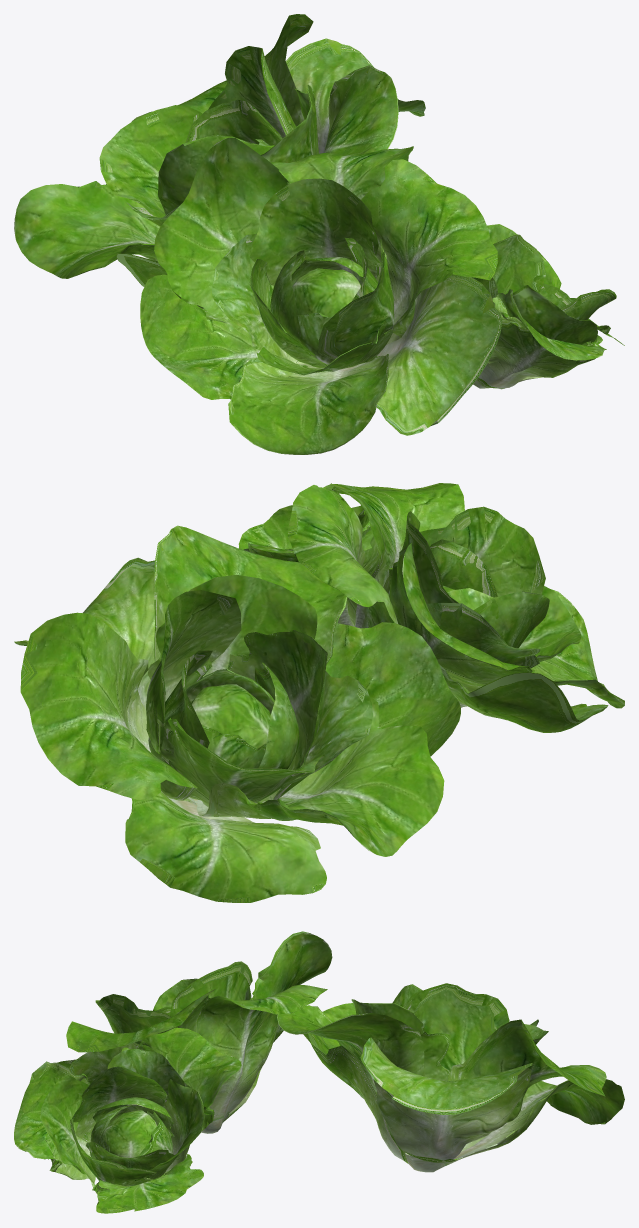
File: lattuga.fbx
The picture shows the model from 3 angles, top to bottom: view 1: azimuth 30°, elevation 25°; view 2: azimuth 150°, elevation 25°; view 3: azimuth 270°, elevation 25°; orthographic projection. The views are drawn at different scales.
Parts seen in each view (by area): view 1: lattuga, lattuga_2_remesh; view 2: lattuga_2_remesh, lattuga; view 3: lattuga, lattuga_2_remesh.
Boxes of the visible parts, x1=… form: lattuga: x1=140, y1=137, x2=624, y2=454; lattuga_2_remesh: x1=14, y1=14, x2=425, y2=286; lattuga_2_remesh: x1=14, y1=525, x2=460, y2=902; lattuga: x1=238, y1=483, x2=624, y2=732; lattuga: x1=14, y1=931, x2=332, y2=1213; lattuga_2_remesh: x1=277, y1=983, x2=624, y2=1172.
Bounding box in the file's own units: 45.19 × 23.3 × 68.8.
